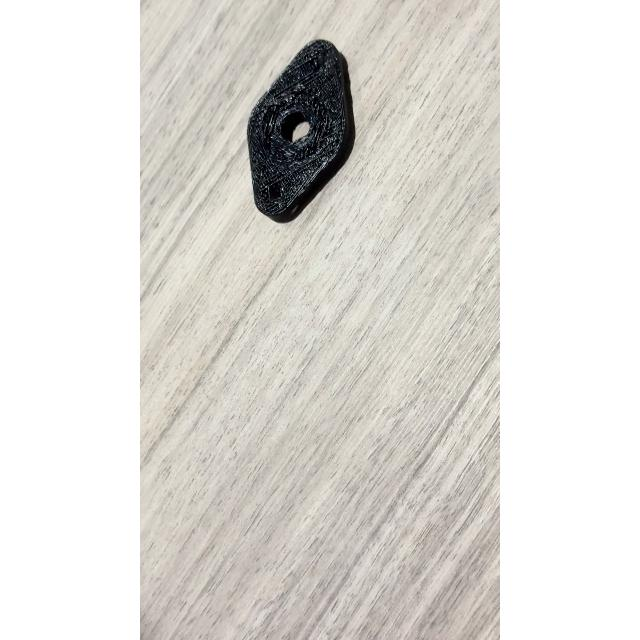Pieza_2: (236, 29, 370, 238)
